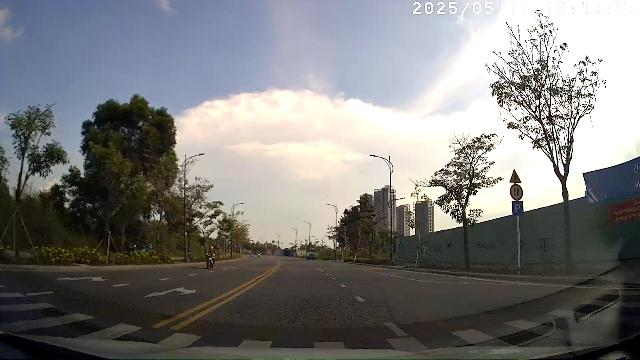127-toc-do-toi-da-50: (510, 184, 524, 200)
